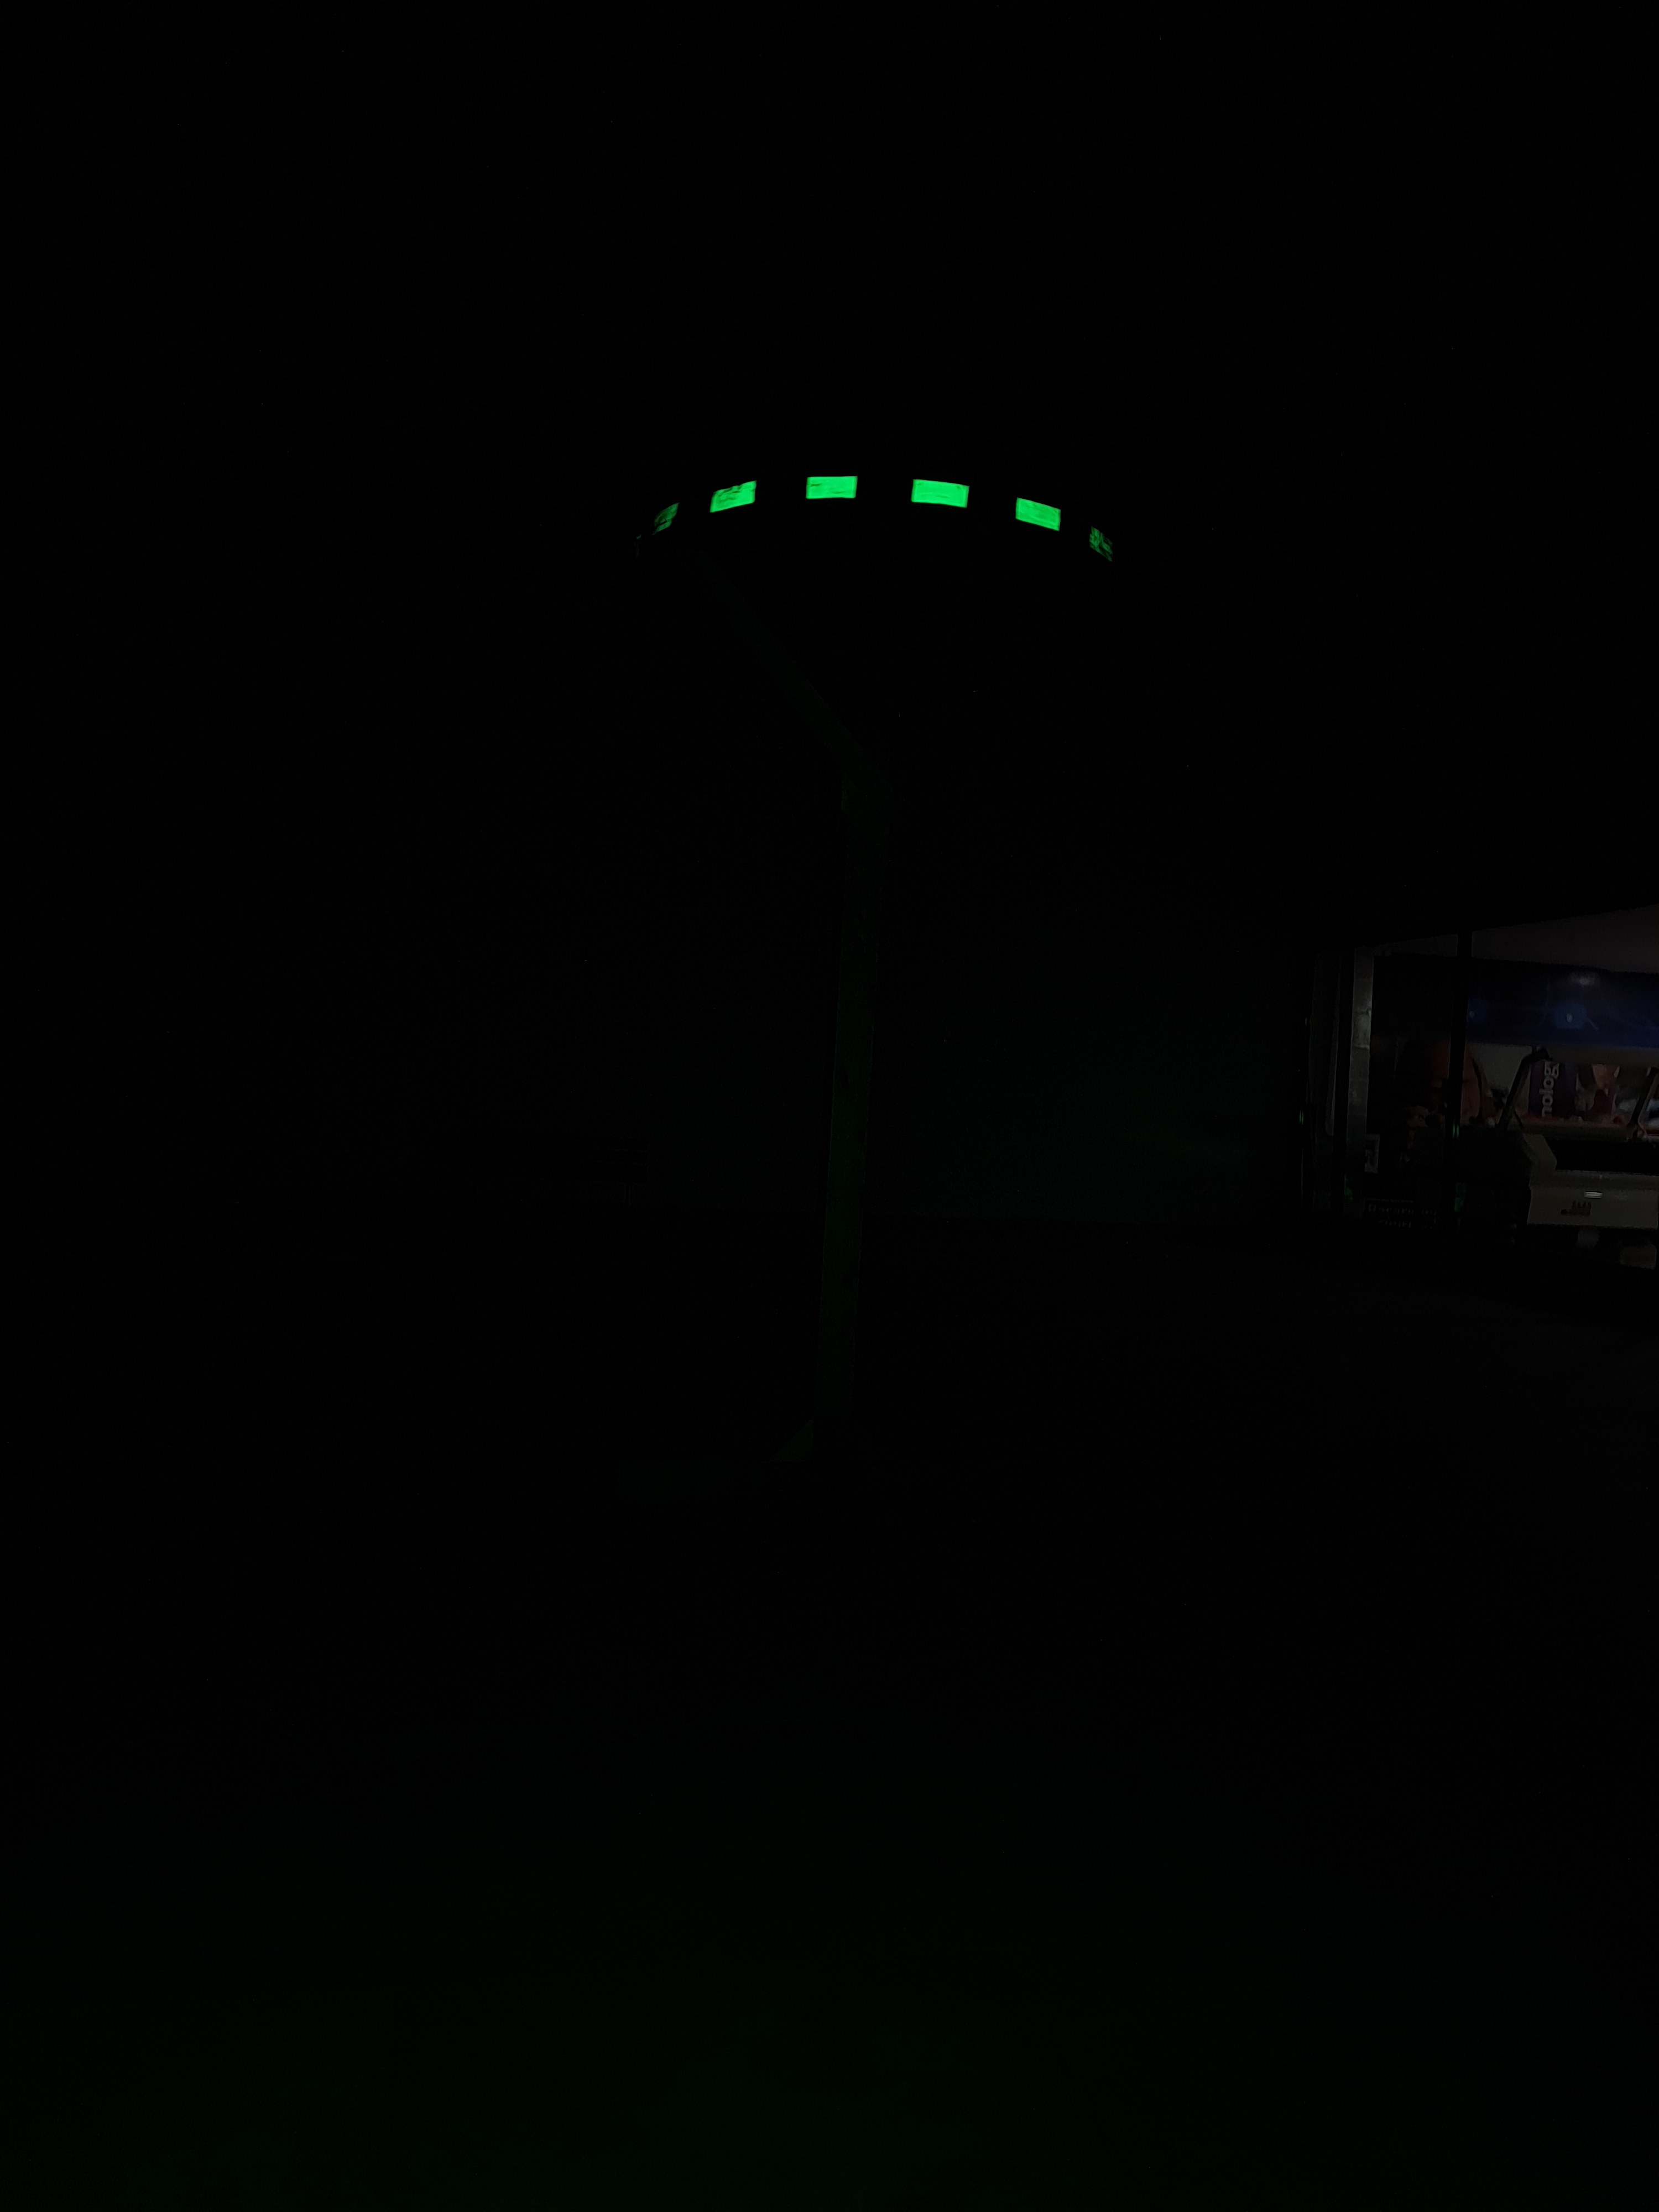hoop: (622, 449, 1154, 585)
